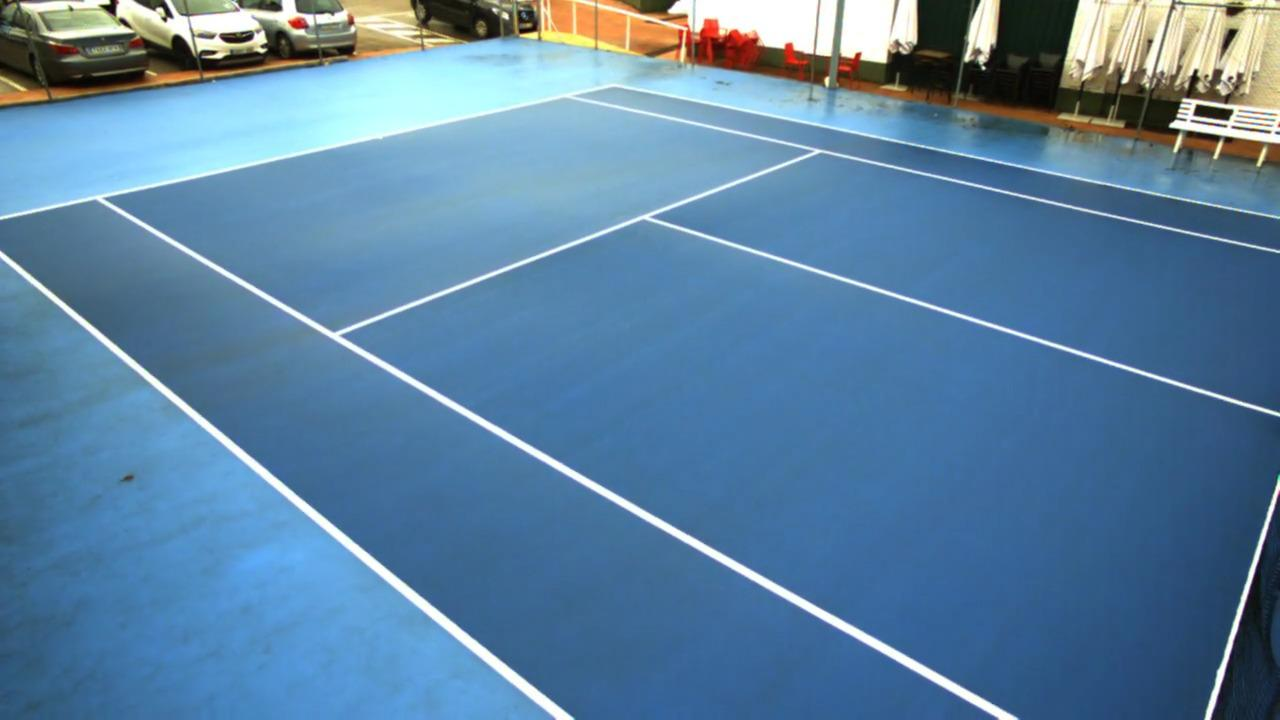cancha_tenis: (97, 94, 1280, 720)
point_f1: (85, 181, 116, 212)
point_f2: (555, 87, 580, 109)
point_fc1: (375, 129, 389, 145)
point_i1: (319, 321, 355, 347)
point_i2: (797, 141, 833, 162)
point_ic1: (635, 204, 664, 230)
